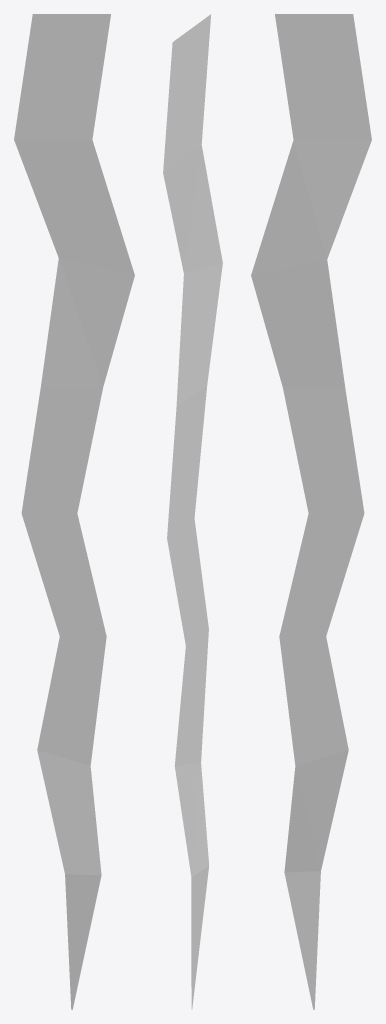
File: bolt.dae
The picture shows the model from 3 angles, left to right: view 1: azimuth 90°, elevation 25°; view 2: azimuth 150°, elevation 25°; view 3: azimuth 270°, elevation 25°; orthographic projection.
Parts seen in each view (by area): view 1: Plane; view 2: Plane; view 3: Plane.
Boxes of the visible parts, x1,y1,x2,y2 form: Plane: (14, 14, 134, 1009); Plane: (163, 14, 222, 1009); Plane: (251, 14, 371, 1009).
Size of the model in its own units: 0.131 by 3.09 by 28.02.
1 material, 1 textured.
